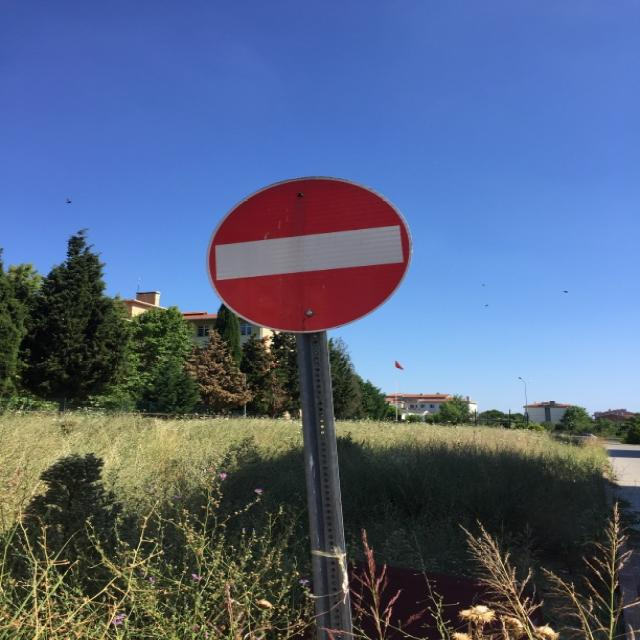girisyok: (207, 178, 412, 334)
